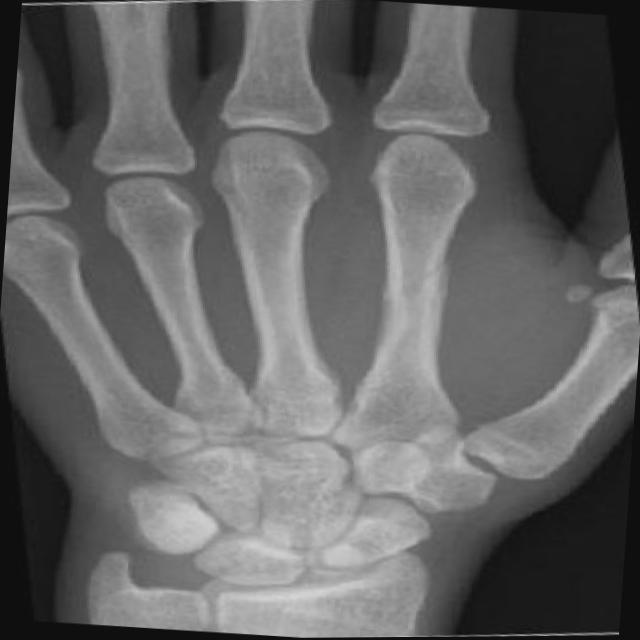Oblique Displaced: (362, 242, 468, 316)
